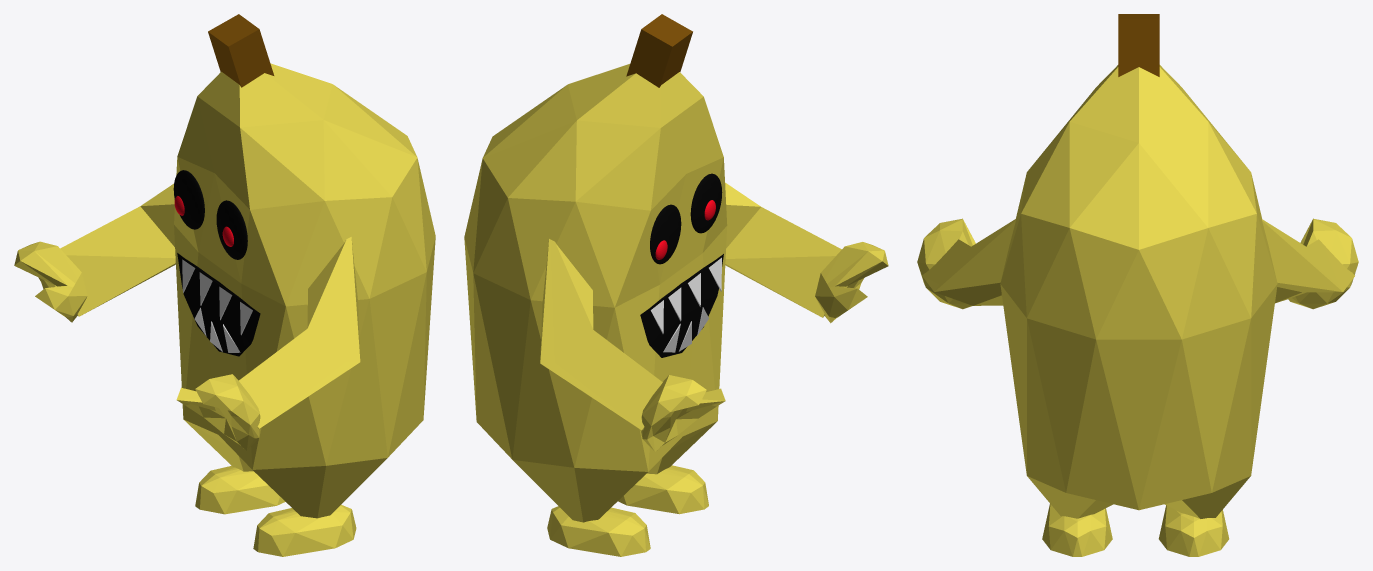
Rendered from Peely.fbx.
The picture shows the model from 3 angles, left to right: view 1: azimuth 30°, elevation 25°; view 2: azimuth 150°, elevation 25°; view 3: azimuth 270°, elevation 25°; orthographic projection.
Visible parts, largest first — view 1: Icosphere, Icosphere.003, Icosphere.002, Icosphere.007, Icosphere.004, Icosphere.005, Icosphere.001, Icosphere.006, Cube, Sphere, Sphere.002; view 2: Icosphere, Icosphere.002, Icosphere.003, Icosphere.006, Icosphere.005, Icosphere.004, Icosphere.001, Cube, Icosphere.007, Sphere.002, Sphere; view 3: Icosphere, Icosphere.003, Icosphere.002, Icosphere.007, Icosphere.006, Cube, Icosphere.005, Icosphere.004.
Part boxes in pixels (box(x1,y1,x2,y2)): Icosphere: box(174, 63, 435, 518); Icosphere.003: box(239, 237, 360, 428); Icosphere.002: box(60, 183, 175, 316); Icosphere.007: box(253, 504, 356, 556); Icosphere.004: box(176, 374, 261, 450); Icosphere.005: box(14, 241, 87, 322); Icosphere.001: box(177, 253, 260, 356); Icosphere.006: box(195, 466, 285, 514); Cube: box(208, 14, 274, 87); Sphere: box(173, 170, 204, 229); Sphere.002: box(216, 200, 247, 259); Icosphere: box(464, 64, 727, 522); Icosphere.002: box(540, 239, 662, 430); Icosphere.003: box(725, 182, 841, 317); Icosphere.006: box(547, 506, 650, 556); Icosphere.005: box(640, 375, 725, 451); Icosphere.004: box(815, 242, 888, 323); Icosphere.001: box(640, 254, 723, 357); Cube: box(626, 14, 692, 87); Icosphere.007: box(618, 465, 708, 514); Sphere.002: box(690, 173, 722, 233); Sphere: box(650, 204, 681, 264); Icosphere: box(1000, 65, 1277, 518); Icosphere.003: box(922, 219, 1015, 305); Icosphere.002: box(1262, 219, 1354, 303); Icosphere.007: box(1042, 504, 1112, 556); Icosphere.006: box(1158, 505, 1229, 556); Cube: box(1118, 14, 1159, 76); Icosphere.005: box(1288, 218, 1358, 309); Icosphere.004: box(917, 218, 975, 309).
Bounding box in the file's own units: 258 × 399 × 319.
